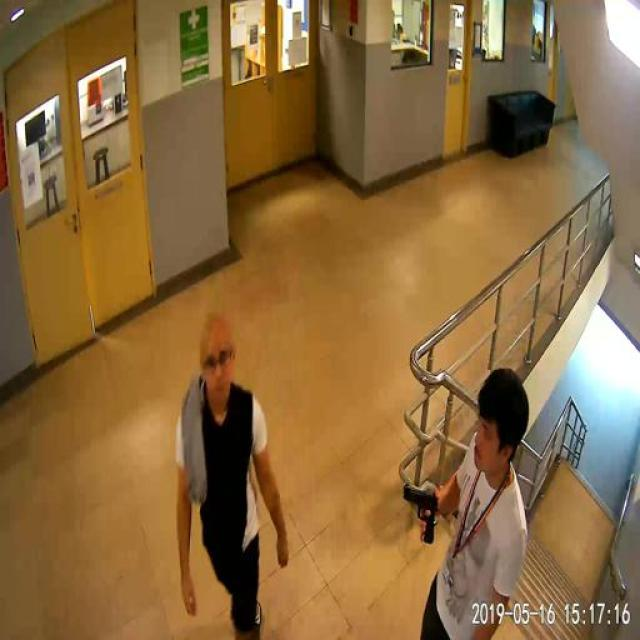Gun: (398, 470, 445, 555)
